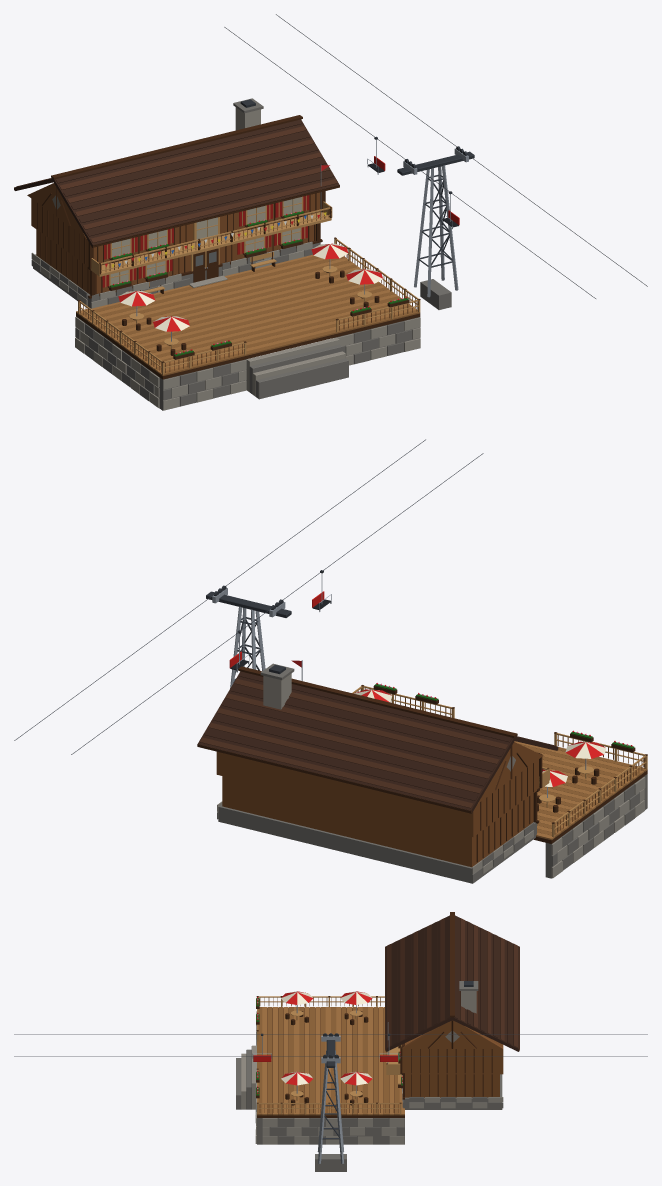
The model's file is lodge.glb.
The picture shows the model from 3 angles, top to bottom: view 1: azimuth 30°, elevation 25°; view 2: azimuth 150°, elevation 25°; view 3: azimuth 270°, elevation 25°; orthographic projection. The views are drawn at different scales.
Visible parts, largest first — view 1: lodge_building, lodge_terrace, chairlift_pylon, lodge_furniture, lodge_railings; view 2: lodge_building, lodge_terrace, chairlift_pylon, lodge_furniture, lodge_railings; view 3: lodge_building, lodge_terrace, chairlift_pylon, lodge_furniture, lodge_railings.
Part boxes in pixels (x1,y1,x2,y2): lodge_building: [14, 98, 339, 308]; lodge_terrace: [75, 254, 420, 410]; chairlift_pylon: [224, 14, 647, 309]; lodge_furniture: [118, 243, 409, 359]; lodge_railings: [78, 237, 420, 374]; lodge_building: [197, 660, 558, 883]; lodge_terrace: [514, 741, 647, 878]; chairlift_pylon: [14, 439, 483, 754]; lodge_furniture: [354, 683, 635, 812]; lodge_railings: [352, 685, 647, 837]; lodge_building: [385, 912, 519, 1109]; lodge_terrace: [236, 1007, 404, 1144]; chairlift_pylon: [14, 1033, 647, 1171]; lodge_furniture: [256, 991, 402, 1105]; lodge_railings: [256, 996, 401, 1113].
Size of the model in its own units: 33.02 by 14.8 by 60.
